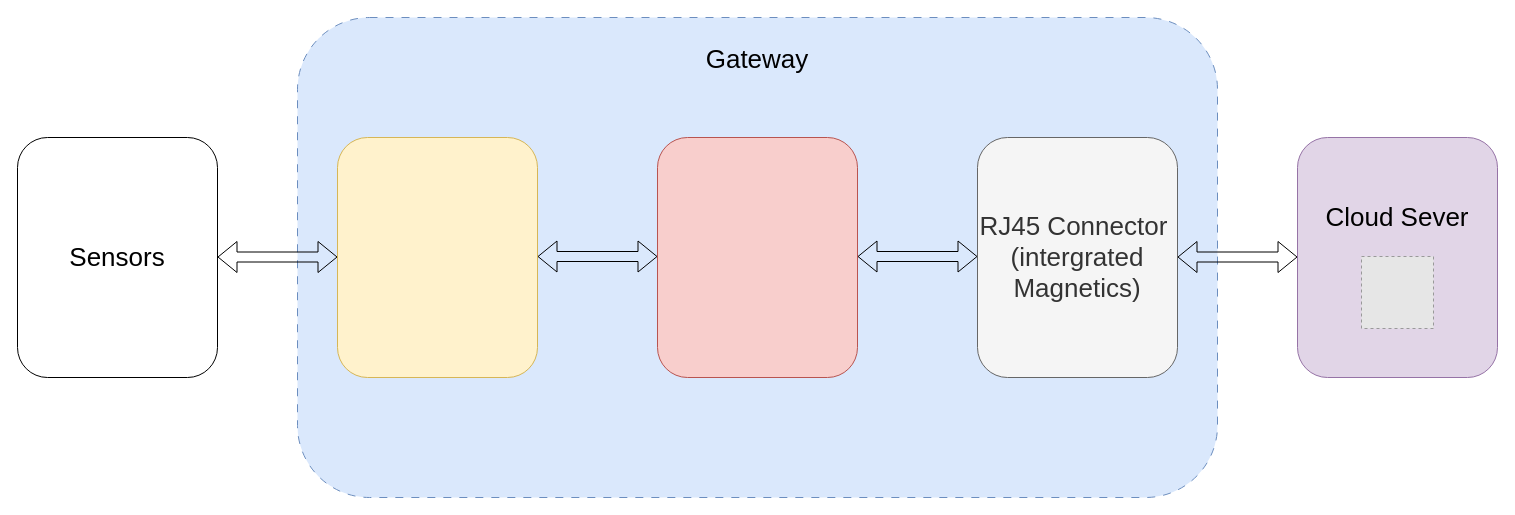
This 1515x515 diagram has some shape labels left out. Grey dashed boxes stand in for pictures. The centre of each missing label's shape, as x and y in pixels:
"Ethernet PHY" belongs at (757,257).
"MCU" belongs at (437,257).
